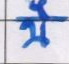ai_matra: (30, 0, 52, 18)
